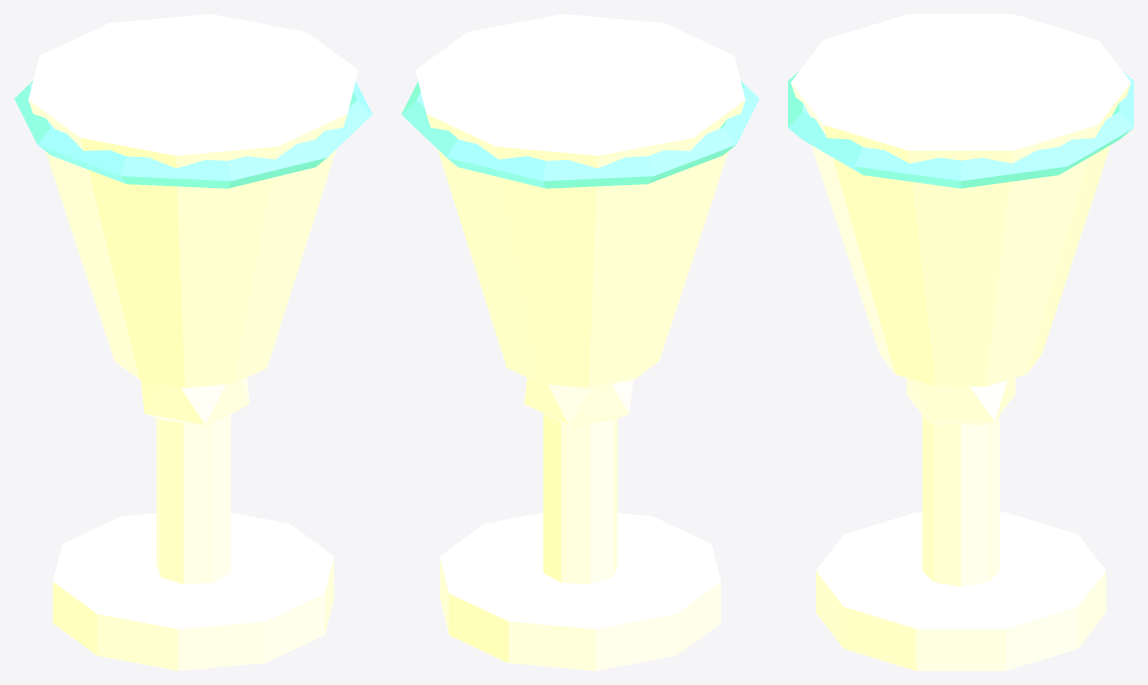
Rendered from Reliquia_Calice.fbx.
The picture shows the model from 3 angles, left to right: view 1: azimuth 30°, elevation 25°; view 2: azimuth 150°, elevation 25°; view 3: azimuth 270°, elevation 25°; orthographic projection.
Parts seen in each view (by area): view 1: Reliquia_Calice; view 2: Reliquia_Calice; view 3: Reliquia_Calice.
Boxes of the visible parts, bbox=[...] form: Reliquia_Calice: bbox=[14, 14, 372, 670]; Reliquia_Calice: bbox=[401, 14, 759, 670]; Reliquia_Calice: bbox=[788, 14, 1133, 670].
Size of the model in its own units: 18.8 by 30.25 by 17.88.
